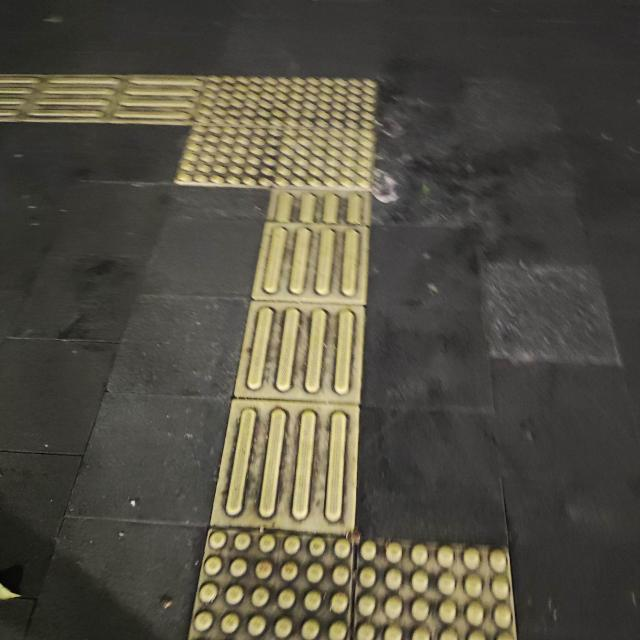kiri: (48, 43, 431, 248)
